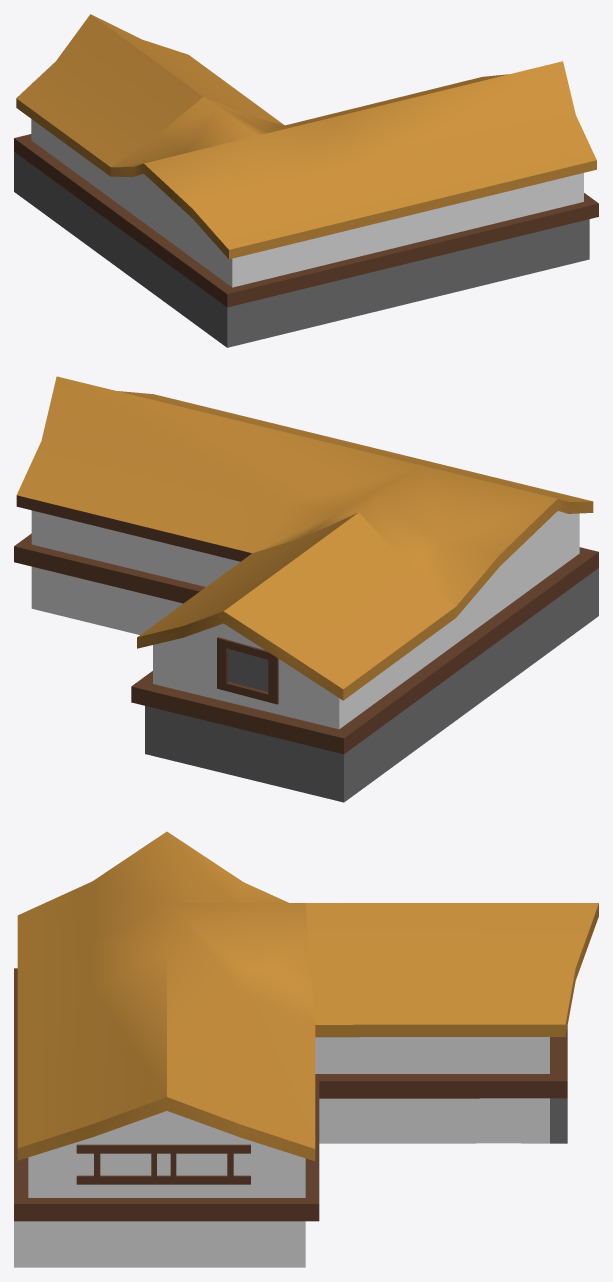
Rendered from ScaleHut.fbx.
3 renders of one model, top to bottom at view 1: azimuth 30°, elevation 25°; view 2: azimuth 150°, elevation 25°; view 3: azimuth 270°, elevation 25°, orthographic. The views are drawn at different scales.
Parts seen in each view (by area): view 1: pCube4; view 2: pCube4; view 3: pCube4.
Part boxes in pixels (left/top/right/bottom): pCube4: left=14, top=14, right=598, bottom=347; pCube4: left=14, top=376, right=598, bottom=802; pCube4: left=14, top=831, right=598, bottom=1267.
Size of the model in its own units: 8.52 by 2.86 by 7.93.
